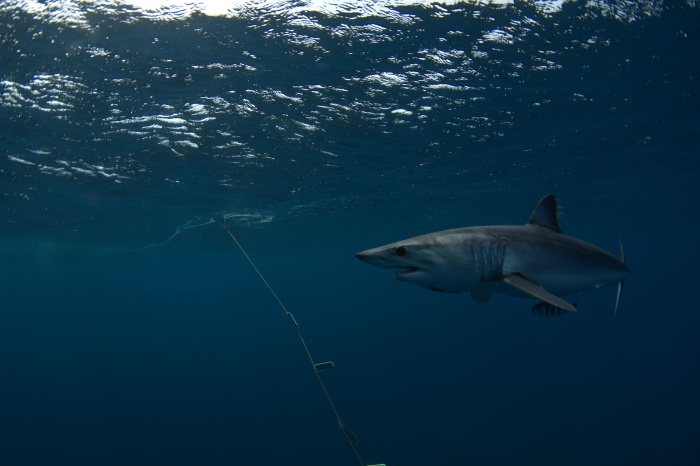Mako: (349, 187, 657, 317)
